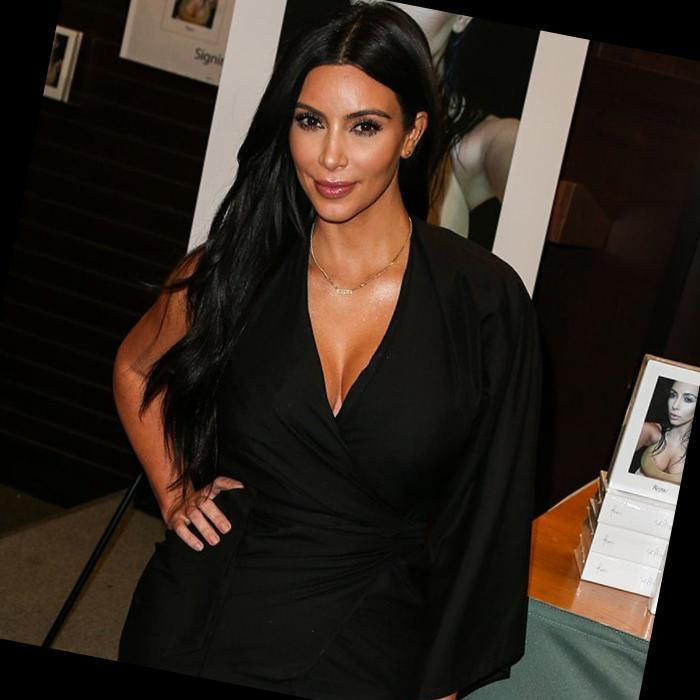Sober: (299, 75, 391, 211)
